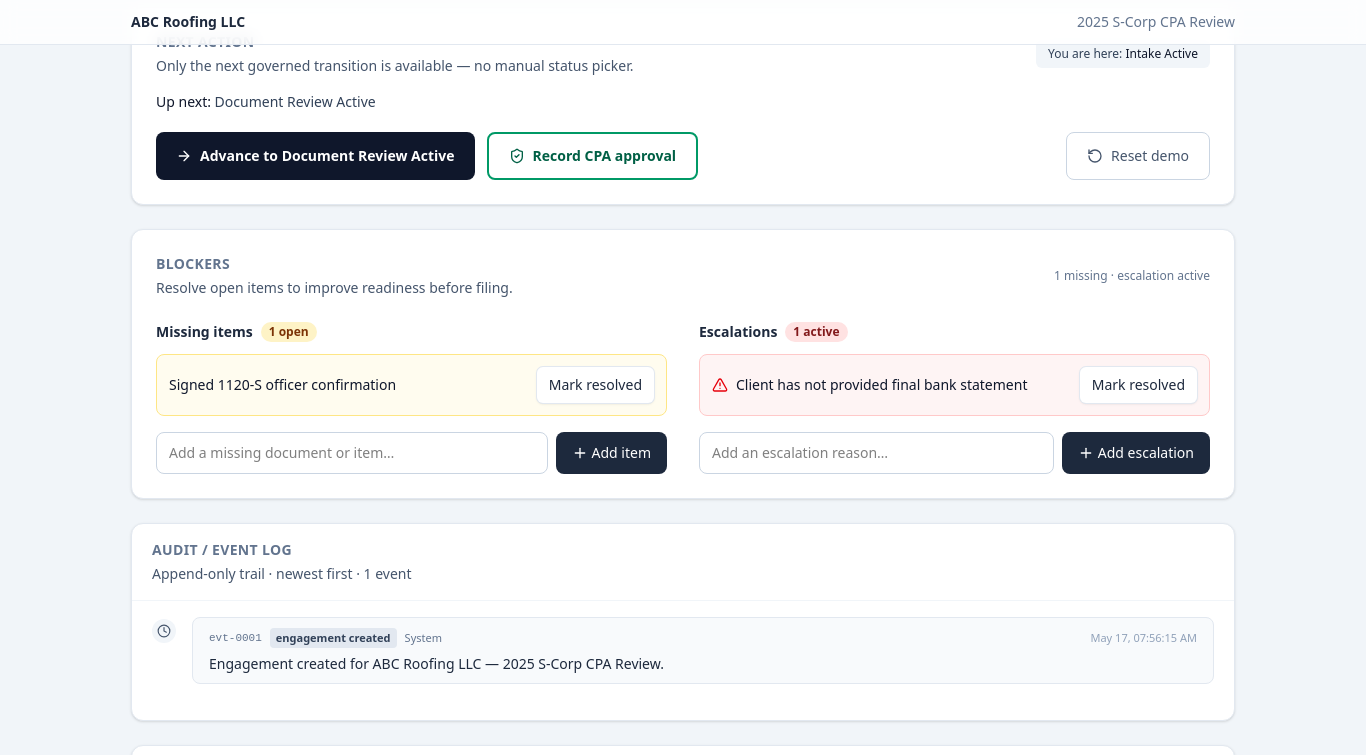
Test case: Governed Workflow Dashboard UI › updates missing item count when an item is resolved
(page scrolled)
Click the button with aria-label "Resolve missing item: Signed 1120-S officer confirmation" at (595, 384), box 537,366 -> 654,402
(page scrolled)
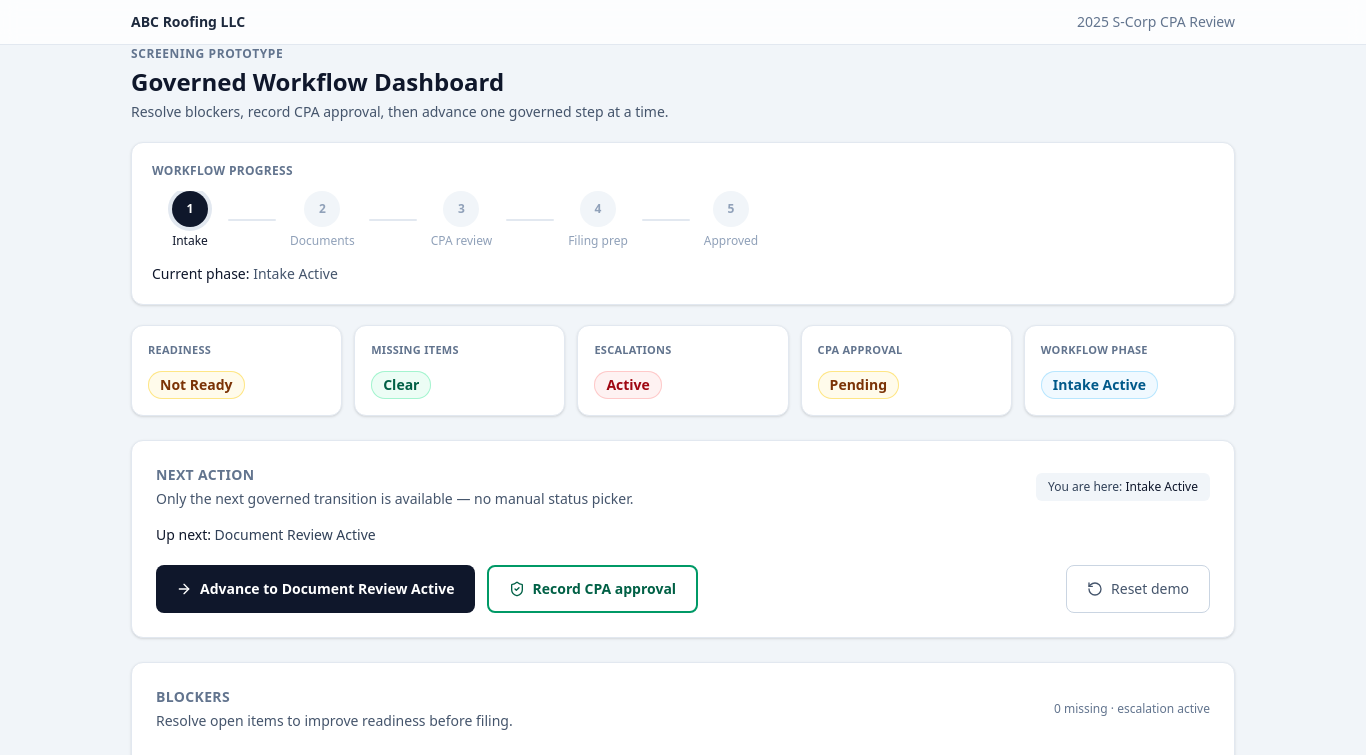
Expected: the element with test id "missing-items-status" does not show "1", 371,370 -> 432,398
Expected: the element with test id "missing-items-status" reads "Clear", 383,374 -> 420,394
